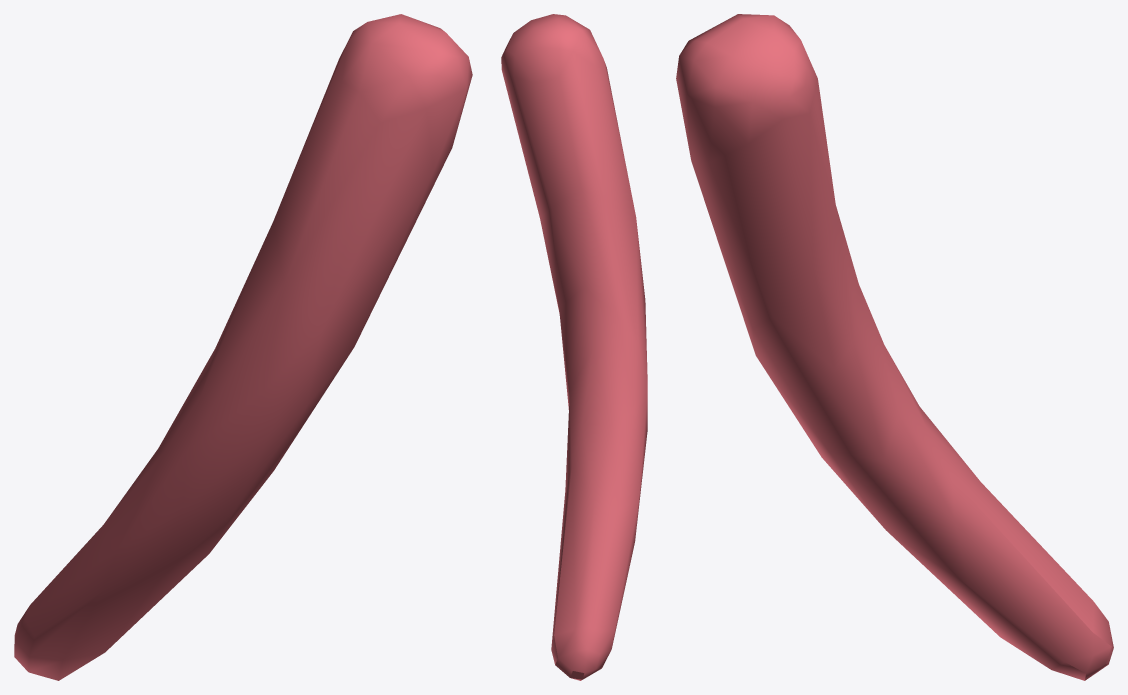
The model's file is fma68728_fj3004.glb.
The picture shows the model from 3 angles, left to right: view 1: azimuth 30°, elevation 25°; view 2: azimuth 150°, elevation 25°; view 3: azimuth 270°, elevation 25°; orthographic projection. The views are drawn at different scales.
Parts seen in each view (by area): view 1: FMA68728_FJ3004; view 2: FMA68728_FJ3004; view 3: FMA68728_FJ3004.
Boxes of the visible parts, bbox=[...] form: FMA68728_FJ3004: bbox=[14, 14, 472, 680]; FMA68728_FJ3004: bbox=[501, 14, 647, 680]; FMA68728_FJ3004: bbox=[676, 14, 1113, 680].
Size of the model in its own units: 0.00599 by 0.0145 by 0.00763.
